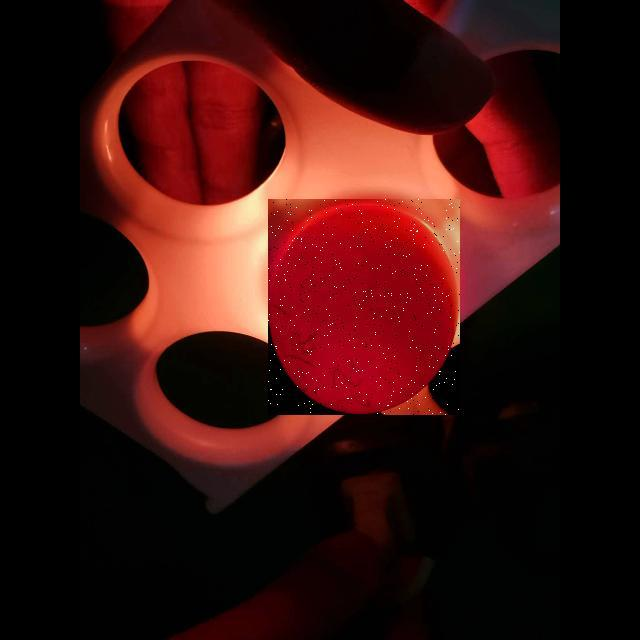Infertile: (268, 199, 460, 415)
